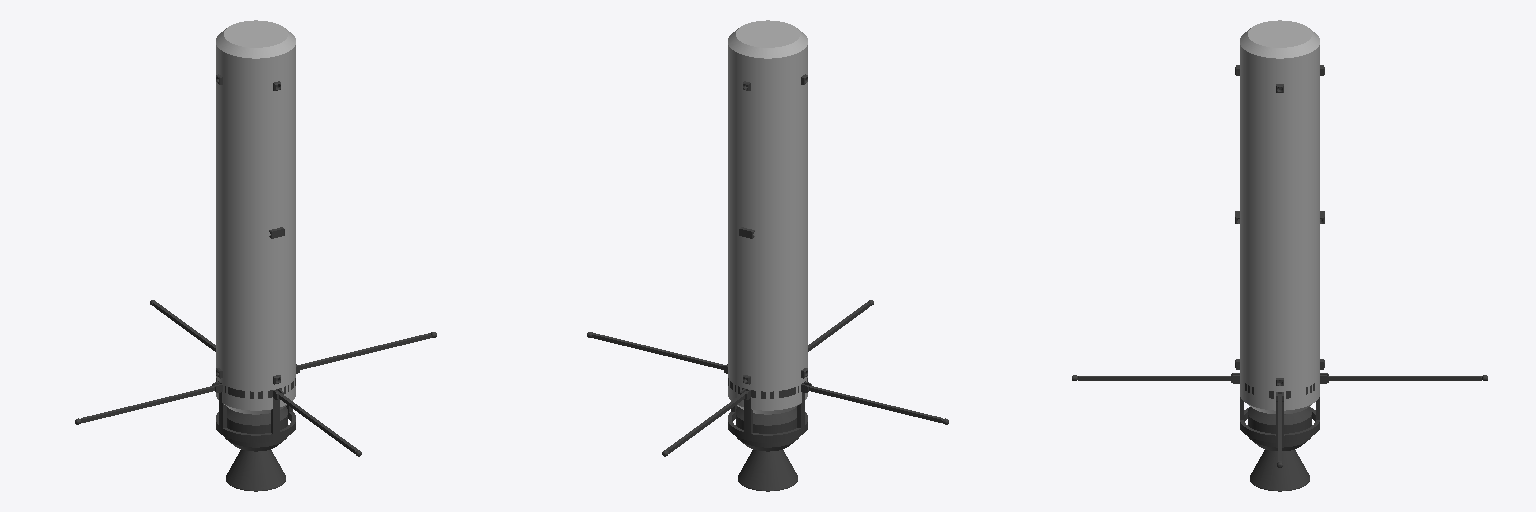
The robot description file, URDF, robot "rocket_lander":
<?xml version="1.0"?>
<robot name="rocket_lander">
  <material name="grey"><color rgba="0.7 0.7 0.7 1"/></material>
  <material name="dark"><color rgba="0.3 0.3 0.3 1"/></material>
  <link name="base_link">
    <visual>
      <origin xyz="0 0 0" rpy="0 0 0"/>
      <geometry>
        <mesh filename="meshes/rocket_main_body.stl" scale="0.001 0.001 0.001"/>
      </geometry>
      <material name="grey"/>
    </visual>
    <collision>
      <origin xyz="0 0 0" rpy="0 0 0"/>
      <geometry>
        <cylinder radius="0.5" length="5.0"/>
      </geometry>
    </collision>
    <inertial>
      <origin xyz="0 0 -1.5" rpy="0 0 0"/>
      <mass value="100.0"/>
      <inertia ixx="214.6" ixy="0.0" ixz="0.0" iyy="214.6" iyz="0.0" izz="12.5"/>
    </inertial>
  </link>
  <link name="rocket_thruster_main_engine_gimbal_intermed">
    <inertial><mass value="0.1"/><inertia ixx="0.01" ixy="0" ixz="0" iyy="0.01" iyz="0" izz="0.01"/></inertial>
  </link>
  <joint name="joint_rocket_thruster_main_engine_pitch" type="revolute">
    <parent link="base_link"/>
    <child link="rocket_thruster_main_engine_gimbal_intermed"/>
    <origin xyz="0.0 0.0 -2.8000000000000003" rpy="0.0 0.0 0.0"/>
    <axis xyz="0 1 0"/>
    <limit lower="-0.35" upper="0.35" effort="20000" velocity="10.0"/>
  </joint>
  <link name="rocket_thruster_main_engine">
    <visual>
      <origin xyz="0 0 0" rpy="0 0 0"/>
      <geometry>
        <mesh filename="meshes/rocket_thruster_main.stl" scale="0.001 0.001 0.001"/>
      </geometry>
      <material name="dark"/>
    </visual>
    <collision>
      <origin xyz="0 0 0" rpy="0 0 0"/>
      <geometry>
        <mesh filename="meshes/rocket_thruster_main.stl" scale="0.001 0.001 0.001"/>
      </geometry>
    </collision>
    <inertial>
      <mass value="5.0"/>
      <inertia ixx="0.1" ixy="0.0" ixz="0.0" iyy="0.1" iyz="0.0" izz="0.1"/>
    </inertial>
  </link>
  <joint name="joint_rocket_thruster_main_engine_roll" type="revolute">
    <parent link="rocket_thruster_main_engine_gimbal_intermed"/>
    <child link="rocket_thruster_main_engine"/>
    <origin xyz="0 0 0" rpy="0 0 0"/>
    <axis xyz="1 0 0"/>
    <limit lower="-0.35" upper="0.35" effort="20000" velocity="10.0"/>
  </joint>
  <link name="rocket_thruster_holder">
    <visual>
      <origin xyz="0 0 0" rpy="0 0 0"/>
      <geometry>
        <mesh filename="meshes/rocket_thruster_holder.stl" scale="0.001 0.001 0.001"/>
      </geometry>
      <material name="dark"/>
    </visual>
    <collision>
      <origin xyz="0 0 0" rpy="0 0 0"/>
      <geometry>
        <mesh filename="meshes/rocket_thruster_holder.stl" scale="0.001 0.001 0.001"/>
      </geometry>
    </collision>
    <inertial>
      <mass value="5.0"/>
      <inertia ixx="0.1" ixy="0.0" ixz="0.0" iyy="0.1" iyz="0.0" izz="0.1"/>
    </inertial>
  </link>
  <joint name="joint_rocket_thruster_holder" type="fixed">
    <parent link="base_link"/>
    <child link="rocket_thruster_holder"/>
    <origin xyz="0.0 0.0 -2.84" rpy="0.0 0.0 0.0"/>
  </joint>
  <link name="rocket_foot_x_plus">
    <visual>
      <origin xyz="0 0 0" rpy="0 0 0"/>
      <geometry>
        <mesh filename="meshes/rocket_foot.stl" scale="0.001 0.001 0.001"/>
      </geometry>
      <material name="dark"/>
    </visual>
    <collision>
      <origin xyz="0 0 0" rpy="0 0 0"/>
      <geometry>
        <mesh filename="meshes/rocket_foot.stl" scale="0.001 0.001 0.001"/>
      </geometry>
    </collision>
    <inertial>
      <mass value="5.0"/>
      <inertia ixx="0.1" ixy="0.0" ixz="0.0" iyy="0.1" iyz="0.0" izz="0.1"/>
    </inertial>
  </link>
  <joint name="joint_rocket_foot_x_plus" type="revolute">
    <parent link="base_link"/>
    <child link="rocket_foot_x_plus"/>
    <origin xyz="0.55 0.0 -2.19" rpy="0.0 0.0 0.0"/>
    <axis xyz="0 1 0"/>
    <limit lower="-1.6" upper="1.6" effort="100" velocity="1.0"/>
  </joint>
  <link name="rocket_foot_x_neg">
    <visual>
      <origin xyz="0 0 0" rpy="0 0 0"/>
      <geometry>
        <mesh filename="meshes/rocket_foot.stl" scale="0.001 0.001 0.001"/>
      </geometry>
      <material name="dark"/>
    </visual>
    <collision>
      <origin xyz="0 0 0" rpy="0 0 0"/>
      <geometry>
        <mesh filename="meshes/rocket_foot.stl" scale="0.001 0.001 0.001"/>
      </geometry>
    </collision>
    <inertial>
      <mass value="5.0"/>
      <inertia ixx="0.1" ixy="0.0" ixz="0.0" iyy="0.1" iyz="0.0" izz="0.1"/>
    </inertial>
  </link>
  <joint name="joint_rocket_foot_x_neg" type="revolute">
    <parent link="base_link"/>
    <child link="rocket_foot_x_neg"/>
    <origin xyz="-0.55 0.0 -2.19" rpy="0.0 0.0 3.141592653589793"/>
    <axis xyz="0 1 0"/>
    <limit lower="-1.6" upper="1.6" effort="100" velocity="1.0"/>
  </joint>
  <link name="rocket_foot_y_neg">
    <visual>
      <origin xyz="0 0 0" rpy="0 0 0"/>
      <geometry>
        <mesh filename="meshes/rocket_foot.stl" scale="0.001 0.001 0.001"/>
      </geometry>
      <material name="dark"/>
    </visual>
    <collision>
      <origin xyz="0 0 0" rpy="0 0 0"/>
      <geometry>
        <mesh filename="meshes/rocket_foot.stl" scale="0.001 0.001 0.001"/>
      </geometry>
    </collision>
    <inertial>
      <mass value="5.0"/>
      <inertia ixx="0.1" ixy="0.0" ixz="0.0" iyy="0.1" iyz="0.0" izz="0.1"/>
    </inertial>
  </link>
  <joint name="joint_rocket_foot_y_neg" type="revolute">
    <parent link="base_link"/>
    <child link="rocket_foot_y_neg"/>
    <origin xyz="-1.2212453270876723e-16 -0.55 -2.19" rpy="0.0 -0.0 -1.5707963267948968"/>
    <axis xyz="0 1 0"/>
    <limit lower="-1.6" upper="1.6" effort="100" velocity="1.0"/>
  </joint>
  <link name="rocket_foot_y_plus">
    <visual>
      <origin xyz="0 0 0" rpy="0 0 0"/>
      <geometry>
        <mesh filename="meshes/rocket_foot.stl" scale="0.001 0.001 0.001"/>
      </geometry>
      <material name="dark"/>
    </visual>
    <collision>
      <origin xyz="0 0 0" rpy="0 0 0"/>
      <geometry>
        <mesh filename="meshes/rocket_foot.stl" scale="0.001 0.001 0.001"/>
      </geometry>
    </collision>
    <inertial>
      <mass value="5.0"/>
      <inertia ixx="0.1" ixy="0.0" ixz="0.0" iyy="0.1" iyz="0.0" izz="0.1"/>
    </inertial>
  </link>
  <joint name="joint_rocket_foot_y_plus" type="revolute">
    <parent link="base_link"/>
    <child link="rocket_foot_y_plus"/>
    <origin xyz="1.2212453270876723e-16 0.55 -2.19" rpy="0.0 0.0 1.5707963267948963"/>
    <axis xyz="0 1 0"/>
    <limit lower="-1.6" upper="1.6" effort="100" velocity="1.0"/>
  </joint>
  <link name="rocket_rcs_yaw_y_plus">
    <visual>
      <origin xyz="0 0 0" rpy="0 0 0"/>
      <geometry>
        <mesh filename="meshes/rocket_rcs_yaw.stl" scale="0.001 0.001 0.001"/>
      </geometry>
      <material name="dark"/>
    </visual>
    <collision>
      <origin xyz="0 0 0" rpy="0 0 0"/>
      <geometry>
        <mesh filename="meshes/rocket_rcs_yaw.stl" scale="0.001 0.001 0.001"/>
      </geometry>
    </collision>
    <inertial>
      <mass value="5.0"/>
      <inertia ixx="0.1" ixy="0.0" ixz="0.0" iyy="0.1" iyz="0.0" izz="0.1"/>
    </inertial>
  </link>
  <joint name="joint_rocket_rcs_yaw_y_plus" type="fixed">
    <parent link="base_link"/>
    <child link="rocket_rcs_yaw_y_plus"/>
    <origin xyz="0.0 0.5 0.0" rpy="0.0 0.0 0.0"/>
  </joint>
  <link name="rocket_rcs_yaw_y_neg">
    <visual>
      <origin xyz="0 0 0" rpy="0 0 0"/>
      <geometry>
        <mesh filename="meshes/rocket_rcs_yaw.stl" scale="0.001 0.001 0.001"/>
      </geometry>
      <material name="dark"/>
    </visual>
    <collision>
      <origin xyz="0 0 0" rpy="0 0 0"/>
      <geometry>
        <mesh filename="meshes/rocket_rcs_yaw.stl" scale="0.001 0.001 0.001"/>
      </geometry>
    </collision>
    <inertial>
      <mass value="5.0"/>
      <inertia ixx="0.1" ixy="0.0" ixz="0.0" iyy="0.1" iyz="0.0" izz="0.1"/>
    </inertial>
  </link>
  <joint name="joint_rocket_rcs_yaw_y_neg" type="fixed">
    <parent link="base_link"/>
    <child link="rocket_rcs_yaw_y_neg"/>
    <origin xyz="0.0 -0.5 0.0" rpy="0.0 0.0 0.0"/>
  </joint>
  <link name="rocket_rcs_roll_pitch_upper_x_plus">
    <visual>
      <origin xyz="0 0 0" rpy="0 0 0"/>
      <geometry>
        <mesh filename="meshes/rocket_rcs_roll_pitch.stl" scale="0.001 0.001 0.001"/>
      </geometry>
      <material name="dark"/>
    </visual>
    <collision>
      <origin xyz="0 0 0" rpy="0 0 0"/>
      <geometry>
        <mesh filename="meshes/rocket_rcs_roll_pitch.stl" scale="0.001 0.001 0.001"/>
      </geometry>
    </collision>
    <inertial>
      <mass value="5.0"/>
      <inertia ixx="0.1" ixy="0.0" ixz="0.0" iyy="0.1" iyz="0.0" izz="0.1"/>
    </inertial>
  </link>
  <joint name="joint_rocket_rcs_roll_pitch_upper_x_plus" type="fixed">
    <parent link="base_link"/>
    <child link="rocket_rcs_roll_pitch_upper_x_plus"/>
    <origin xyz="0.5 0.0 2.0" rpy="0.0 0.0 0.0"/>
  </joint>
  <link name="rocket_rcs_roll_pitch_upper_x_neg">
    <visual>
      <origin xyz="0 0 0" rpy="0 0 0"/>
      <geometry>
        <mesh filename="meshes/rocket_rcs_roll_pitch.stl" scale="0.001 0.001 0.001"/>
      </geometry>
      <material name="dark"/>
    </visual>
    <collision>
      <origin xyz="0 0 0" rpy="0 0 0"/>
      <geometry>
        <mesh filename="meshes/rocket_rcs_roll_pitch.stl" scale="0.001 0.001 0.001"/>
      </geometry>
    </collision>
    <inertial>
      <mass value="5.0"/>
      <inertia ixx="0.1" ixy="0.0" ixz="0.0" iyy="0.1" iyz="0.0" izz="0.1"/>
    </inertial>
  </link>
  <joint name="joint_rocket_rcs_roll_pitch_upper_x_neg" type="fixed">
    <parent link="base_link"/>
    <child link="rocket_rcs_roll_pitch_upper_x_neg"/>
    <origin xyz="-0.5 6.123233995736766e-17 2.0" rpy="0.0 0.0 3.141592653589793"/>
  </joint>
  <link name="rocket_rcs_roll_pitch_upper_y_plus">
    <visual>
      <origin xyz="0 0 0" rpy="0 0 0"/>
      <geometry>
        <mesh filename="meshes/rocket_rcs_roll_pitch.stl" scale="0.001 0.001 0.001"/>
      </geometry>
      <material name="dark"/>
    </visual>
    <collision>
      <origin xyz="0 0 0" rpy="0 0 0"/>
      <geometry>
        <mesh filename="meshes/rocket_rcs_roll_pitch.stl" scale="0.001 0.001 0.001"/>
      </geometry>
    </collision>
    <inertial>
      <mass value="5.0"/>
      <inertia ixx="0.1" ixy="0.0" ixz="0.0" iyy="0.1" iyz="0.0" izz="0.1"/>
    </inertial>
  </link>
  <joint name="joint_rocket_rcs_roll_pitch_upper_y_plus" type="fixed">
    <parent link="base_link"/>
    <child link="rocket_rcs_roll_pitch_upper_y_plus"/>
    <origin xyz="1.1102230246251565e-16 0.5 2.0" rpy="0.0 0.0 1.5707963267948963"/>
  </joint>
  <link name="rocket_rcs_roll_pitch_upper_y_neg">
    <visual>
      <origin xyz="0 0 0" rpy="0 0 0"/>
      <geometry>
        <mesh filename="meshes/rocket_rcs_roll_pitch.stl" scale="0.001 0.001 0.001"/>
      </geometry>
      <material name="dark"/>
    </visual>
    <collision>
      <origin xyz="0 0 0" rpy="0 0 0"/>
      <geometry>
        <mesh filename="meshes/rocket_rcs_roll_pitch.stl" scale="0.001 0.001 0.001"/>
      </geometry>
    </collision>
    <inertial>
      <mass value="5.0"/>
      <inertia ixx="0.1" ixy="0.0" ixz="0.0" iyy="0.1" iyz="0.0" izz="0.1"/>
    </inertial>
  </link>
  <joint name="joint_rocket_rcs_roll_pitch_upper_y_neg" type="fixed">
    <parent link="base_link"/>
    <child link="rocket_rcs_roll_pitch_upper_y_neg"/>
    <origin xyz="-1.1102230246251565e-16 -0.5 2.0" rpy="0.0 -0.0 -1.5707963267948968"/>
  </joint>
  <link name="rocket_rcs_roll_pitch_bottom_x_plus">
    <visual>
      <origin xyz="0 0 0" rpy="0 0 0"/>
      <geometry>
        <mesh filename="meshes/rocket_rcs_roll_pitch.stl" scale="0.001 0.001 0.001"/>
      </geometry>
      <material name="dark"/>
    </visual>
    <collision>
      <origin xyz="0 0 0" rpy="0 0 0"/>
      <geometry>
        <mesh filename="meshes/rocket_rcs_roll_pitch.stl" scale="0.001 0.001 0.001"/>
      </geometry>
    </collision>
    <inertial>
      <mass value="5.0"/>
      <inertia ixx="0.1" ixy="0.0" ixz="0.0" iyy="0.1" iyz="0.0" izz="0.1"/>
    </inertial>
  </link>
  <joint name="joint_rocket_rcs_roll_pitch_bottom_x_plus" type="fixed">
    <parent link="base_link"/>
    <child link="rocket_rcs_roll_pitch_bottom_x_plus"/>
    <origin xyz="0.5 0.0 -2.0" rpy="0.0 0.0 0.0"/>
  </joint>
  <link name="rocket_rcs_roll_pitch_bottom_x_neg">
    <visual>
      <origin xyz="0 0 0" rpy="0 0 0"/>
      <geometry>
        <mesh filename="meshes/rocket_rcs_roll_pitch.stl" scale="0.001 0.001 0.001"/>
      </geometry>
      <material name="dark"/>
    </visual>
    <collision>
      <origin xyz="0 0 0" rpy="0 0 0"/>
      <geometry>
        <mesh filename="meshes/rocket_rcs_roll_pitch.stl" scale="0.001 0.001 0.001"/>
      </geometry>
    </collision>
    <inertial>
      <mass value="5.0"/>
      <inertia ixx="0.1" ixy="0.0" ixz="0.0" iyy="0.1" iyz="0.0" izz="0.1"/>
    </inertial>
  </link>
  <joint name="joint_rocket_rcs_roll_pitch_bottom_x_neg" type="fixed">
    <parent link="base_link"/>
    <child link="rocket_rcs_roll_pitch_bottom_x_neg"/>
    <origin xyz="-0.5 6.12e-17 -2.0" rpy="0.0 0.0 3.141592653589793"/>
  </joint>
  <link name="rocket_rcs_roll_pitch_bottom_y_plus">
    <visual>
      <origin xyz="0 0 0" rpy="0 0 0"/>
      <geometry>
        <mesh filename="meshes/rocket_rcs_roll_pitch.stl" scale="0.001 0.001 0.001"/>
      </geometry>
      <material name="dark"/>
    </visual>
    <collision>
      <origin xyz="0 0 0" rpy="0 0 0"/>
      <geometry>
        <mesh filename="meshes/rocket_rcs_roll_pitch.stl" scale="0.001 0.001 0.001"/>
      </geometry>
    </collision>
    <inertial>
      <mass value="5.0"/>
      <inertia ixx="0.1" ixy="0.0" ixz="0.0" iyy="0.1" iyz="0.0" izz="0.1"/>
    </inertial>
  </link>
  <joint name="joint_rocket_rcs_roll_pitch_bottom_y_plus" type="fixed">
    <parent link="base_link"/>
    <child link="rocket_rcs_roll_pitch_bottom_y_plus"/>
    <origin xyz="1.1099999999999999e-16 0.5 -2.0" rpy="0.0 0.0 1.5707963267948963"/>
  </joint>
  <link name="rocket_rcs_roll_pitch_bottom_y_neg">
    <visual>
      <origin xyz="0 0 0" rpy="0 0 0"/>
      <geometry>
        <mesh filename="meshes/rocket_rcs_roll_pitch.stl" scale="0.001 0.001 0.001"/>
      </geometry>
      <material name="dark"/>
    </visual>
    <collision>
      <origin xyz="0 0 0" rpy="0 0 0"/>
      <geometry>
        <mesh filename="meshes/rocket_rcs_roll_pitch.stl" scale="0.001 0.001 0.001"/>
      </geometry>
    </collision>
    <inertial>
      <mass value="5.0"/>
      <inertia ixx="0.1" ixy="0.0" ixz="0.0" iyy="0.1" iyz="0.0" izz="0.1"/>
    </inertial>
  </link>
  <joint name="joint_rocket_rcs_roll_pitch_bottom_y_neg" type="fixed">
    <parent link="base_link"/>
    <child link="rocket_rcs_roll_pitch_bottom_y_neg"/>
    <origin xyz="0.0 -0.5 -2.0" rpy="0.0 -0.0 -1.5707963267948968"/>
  </joint>
</robot>

--- Facts derived from the render (not from the file) ---
3 views of the same robot in one strip: view 1: azimuth 30°, elevation 25°; view 2: azimuth 150°, elevation 25°; view 3: azimuth 270°, elevation 25° (orthographic).
Robot: rocket_lander — 18 links, 17 joints (6 revolute, 11 fixed); root link base_link; default pose: every joint at zero.
Links seen in each view (by area): view 1: base_link, rocket_thruster_main_engine, rocket_thruster_holder, rocket_foot_x_neg, rocket_foot_x_plus, rocket_foot_y_neg; view 2: base_link, rocket_thruster_main_engine, rocket_thruster_holder, rocket_foot_x_neg, rocket_foot_x_plus, rocket_foot_y_plus; view 3: base_link, rocket_thruster_main_engine, rocket_thruster_holder, rocket_foot_y_neg, rocket_foot_y_plus.
Link boxes in pixels (<box>): base_link: <box>216,20,295,414</box>; rocket_thruster_main_engine: <box>225,407,287,491</box>; rocket_thruster_holder: <box>212,364,299,442</box>; rocket_foot_x_neg: <box>75,385,215,424</box>; rocket_foot_x_plus: <box>296,332,436,369</box>; rocket_foot_y_neg: <box>277,391,361,456</box>; base_link: <box>728,20,807,414</box>; rocket_thruster_main_engine: <box>736,407,798,491</box>; rocket_thruster_holder: <box>724,364,811,442</box>; rocket_foot_x_neg: <box>808,385,948,424</box>; rocket_foot_x_plus: <box>587,332,727,369</box>; rocket_foot_y_plus: <box>662,391,746,456</box>; base_link: <box>1240,20,1319,413</box>; rocket_thruster_main_engine: <box>1248,407,1311,491</box>; rocket_thruster_holder: <box>1231,373,1328,442</box>; rocket_foot_y_neg: <box>1072,375,1230,380</box>; rocket_foot_y_plus: <box>1329,375,1487,380</box>.
Size in the robot's own frame: 5.15 by 5.15 by 6.06 metres.
17 mesh visuals loaded from 6 distinct referenced files (6 binary STL).
